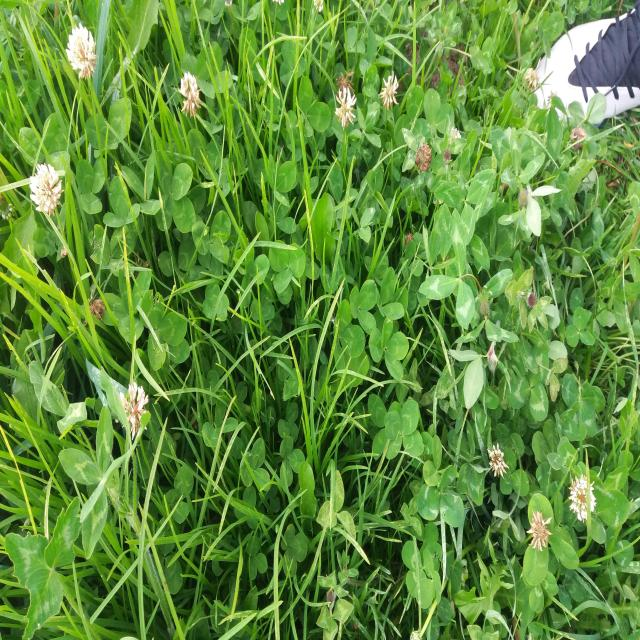Four Leaf Clover: (98, 267, 151, 343), (153, 150, 196, 233), (369, 316, 409, 382), (384, 399, 424, 459)
